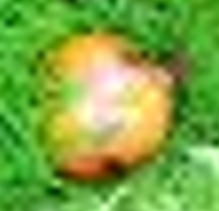pomegranate_C: (35, 32, 192, 180)
